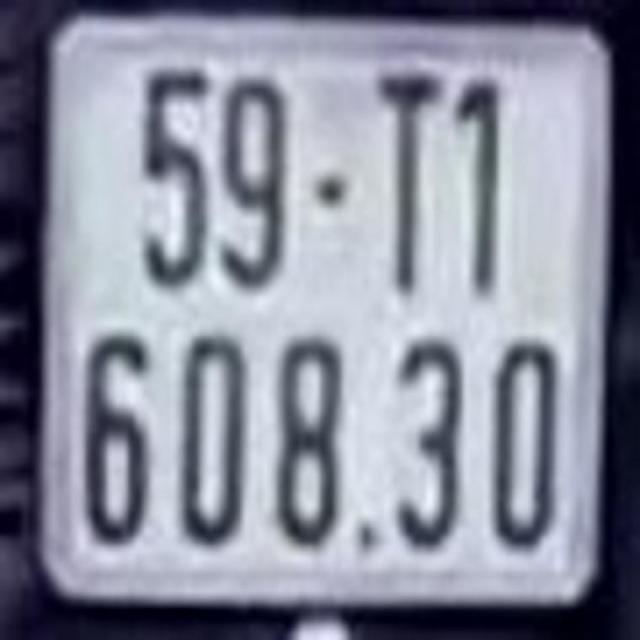0: (491, 336, 561, 553), (183, 328, 249, 544)
1: (458, 73, 520, 289)
3: (398, 327, 472, 547)
5: (146, 82, 202, 281)
6: (89, 327, 154, 540)
8: (278, 346, 344, 544)
9: (224, 84, 288, 282)
T: (378, 72, 442, 293)
